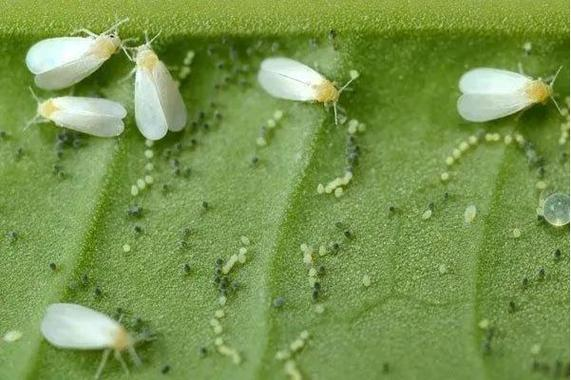Delphacidae: (40, 302, 155, 380), (24, 17, 131, 93), (120, 28, 189, 142), (255, 55, 354, 126), (457, 63, 564, 123), (22, 85, 129, 138)
